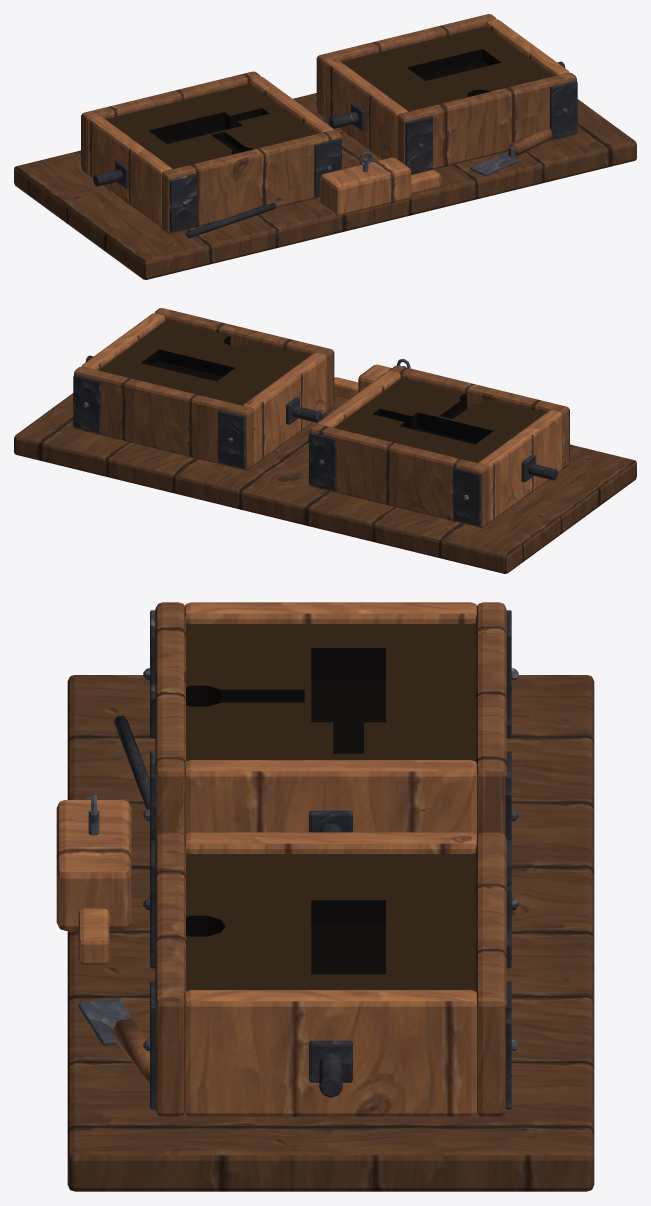
Rendered from cf_mould_box_open.glb.
3 renders of one model, top to bottom at view 1: azimuth 30°, elevation 25°; view 2: azimuth 150°, elevation 25°; view 3: azimuth 270°, elevation 25°, orthographic. The views are drawn at different scales.
Visible parts, largest first — view 1: model; view 2: model; view 3: model.
Part boxes in pixels (x1=…): model: x1=14, y1=14, x2=636, y2=279; model: x1=14, y1=308, x2=636, y2=573; model: x1=56, y1=602, x2=594, y2=1191.
Size of the model in its own units: 1.3 by 0.197 by 0.6125.
Materials: 7 (5 with a texture image).
